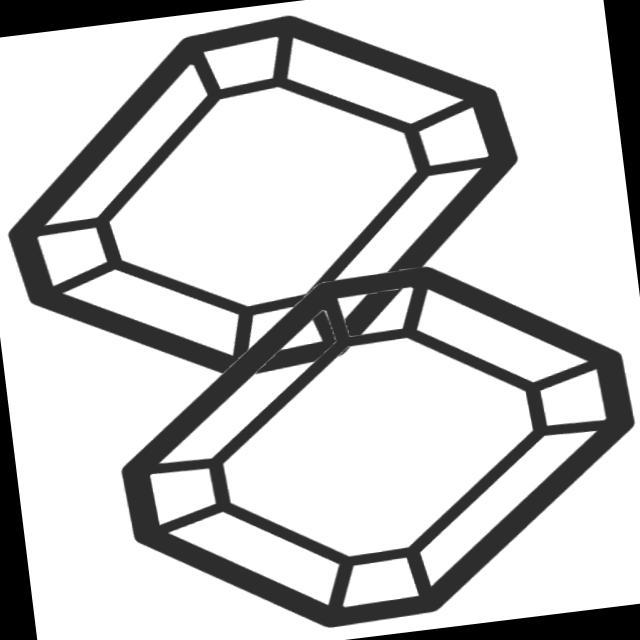emerald: (1, 1, 551, 412), (84, 238, 640, 640)
